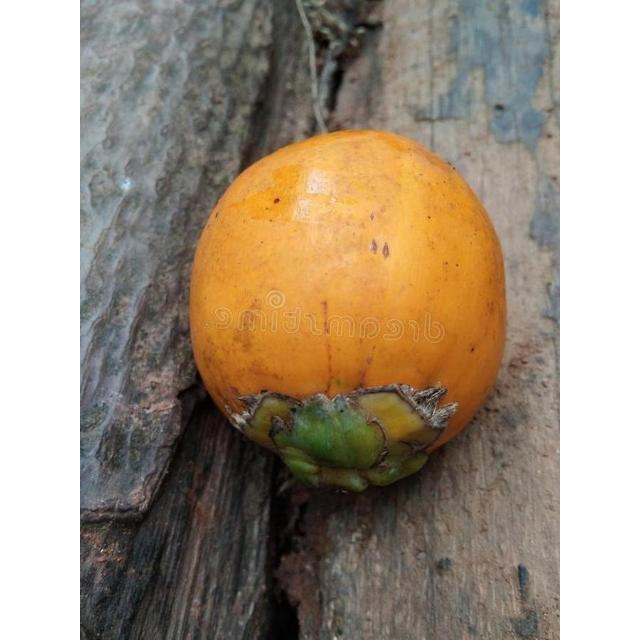good: (189, 130, 508, 496)
